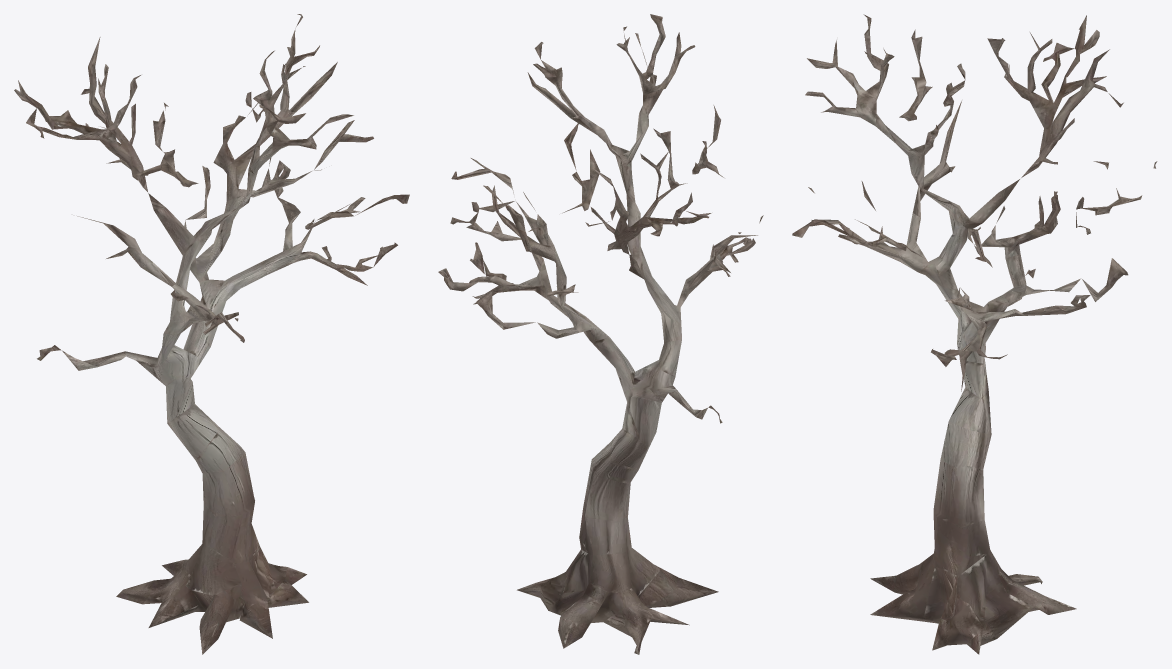
Rendered from dead_tree.glb.
The picture shows the model from 3 angles, left to right: view 1: azimuth 30°, elevation 25°; view 2: azimuth 150°, elevation 25°; view 3: azimuth 270°, elevation 25°; orthographic projection. The views are drawn at different scales.
Parts seen in each view (by area): view 1: 0; view 2: 0; view 3: 0.
Boxes of the visible parts, x1=… form: 0: x1=14, y1=14, x2=409, y2=654; 0: x1=438, y1=14, x2=763, y2=654; 0: x1=792, y1=14, x2=1157, y2=654.
Size of the model in its own units: 1.04 by 1.88 by 1.03.
1 material, 1 textured.
